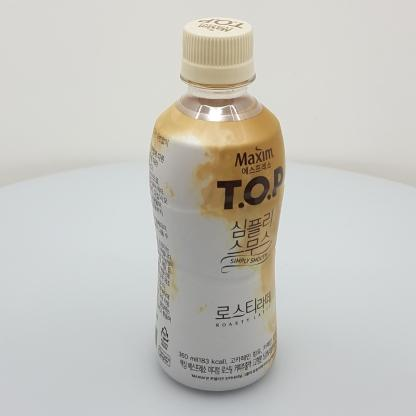--------TOP-----------: (149, 17, 286, 391)
